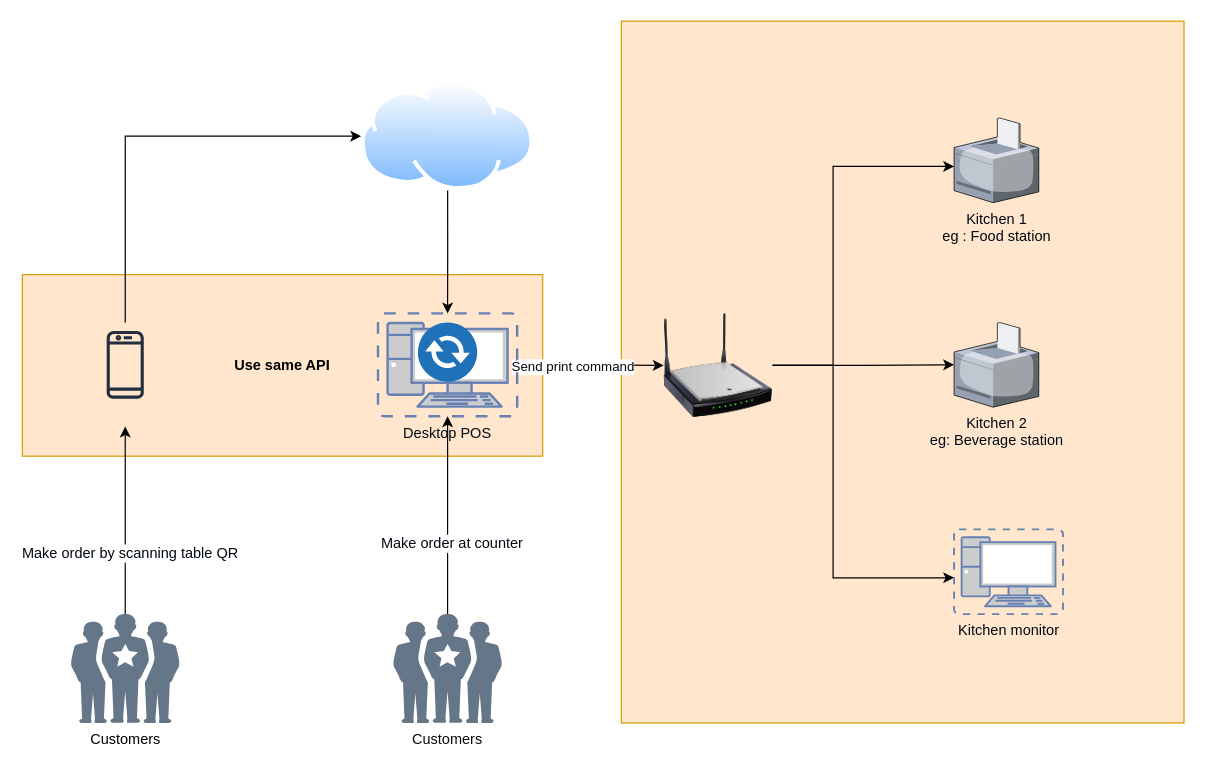
Image size: 1205x770. Some labels were removed from this diagram. The shapes that lost their labels are listed below. From the top down, each one's centre as x and y in pixels, then its label:
At (x=447, y=135): "Internet Huawei cloud native".
At (x=125, y=364): "Self ordering".
At (x=717, y=365): "Router".
